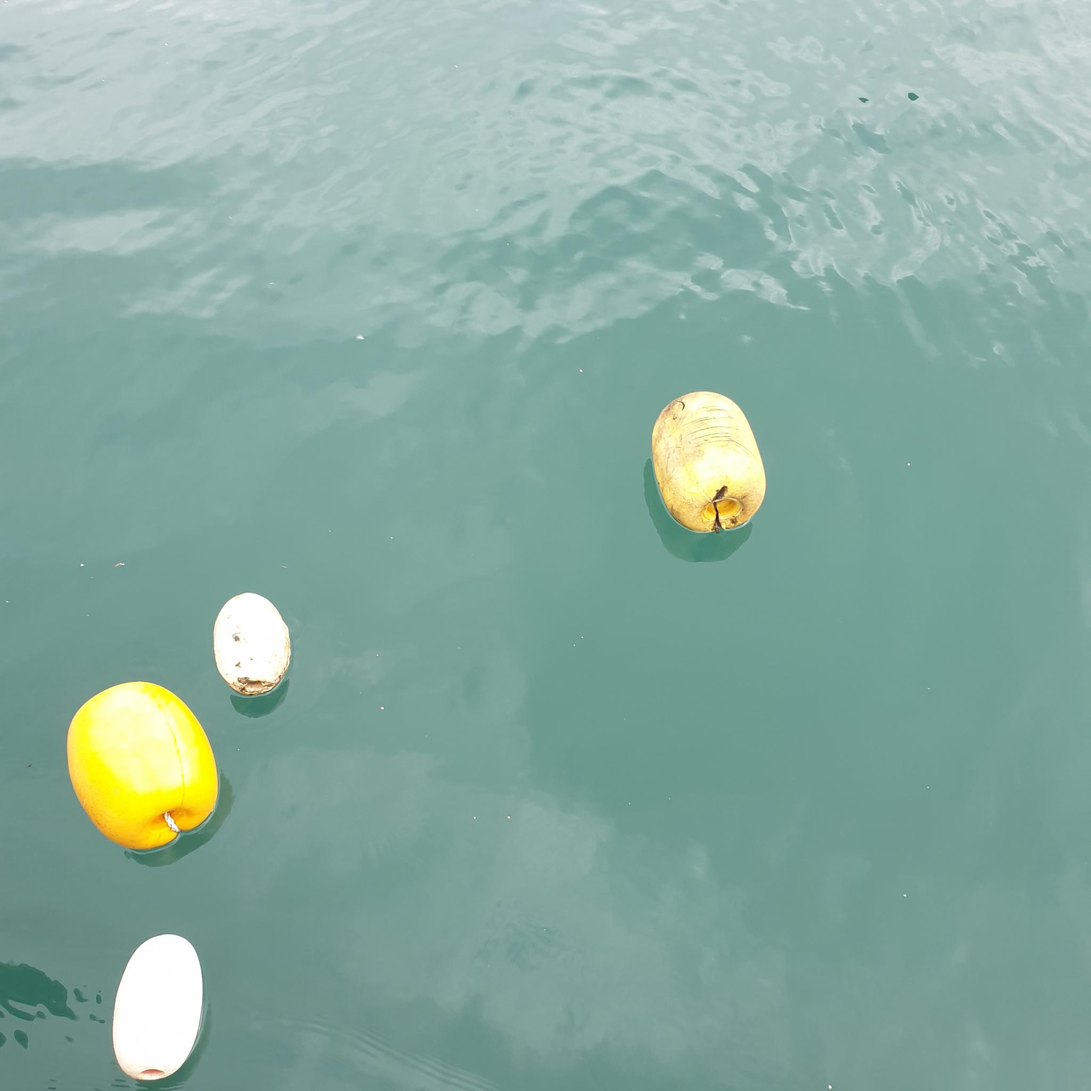sampah_terapung: (67, 682, 219, 850), (652, 391, 767, 534), (112, 934, 203, 1080), (213, 593, 291, 697)
